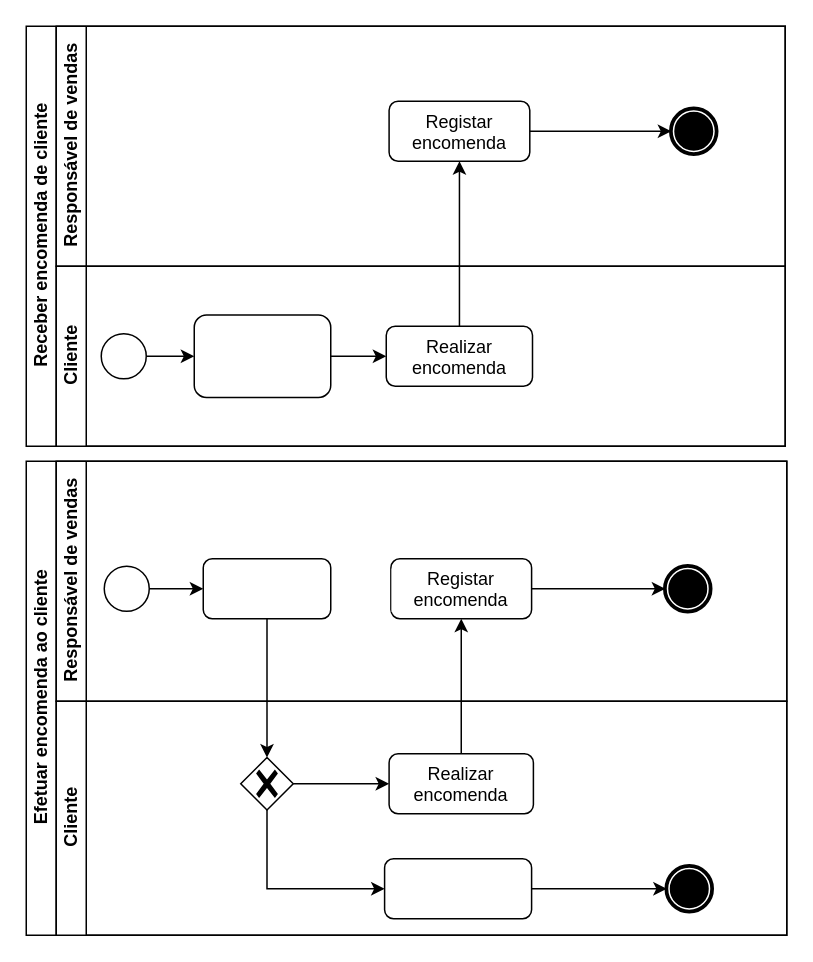
Image size: 813x962. Some labels were removed from this diagram. Here are the shapes that lost their labels. From the top down, the centre of each, then its label:
At (x=262, y=356): "Contactar responsável de vendas".
At (x=266, y=588): "Contactar cliente".
At (x=457, y=888): "Recusar encomenda".
